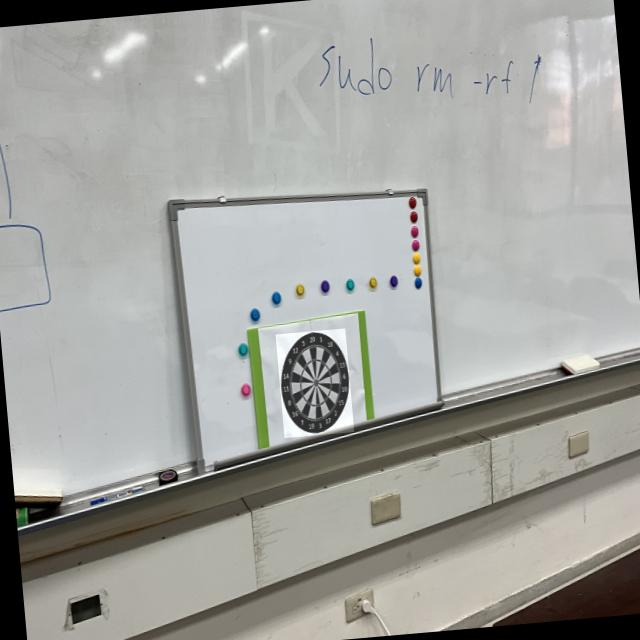archery-targets: (276, 328, 354, 437)
